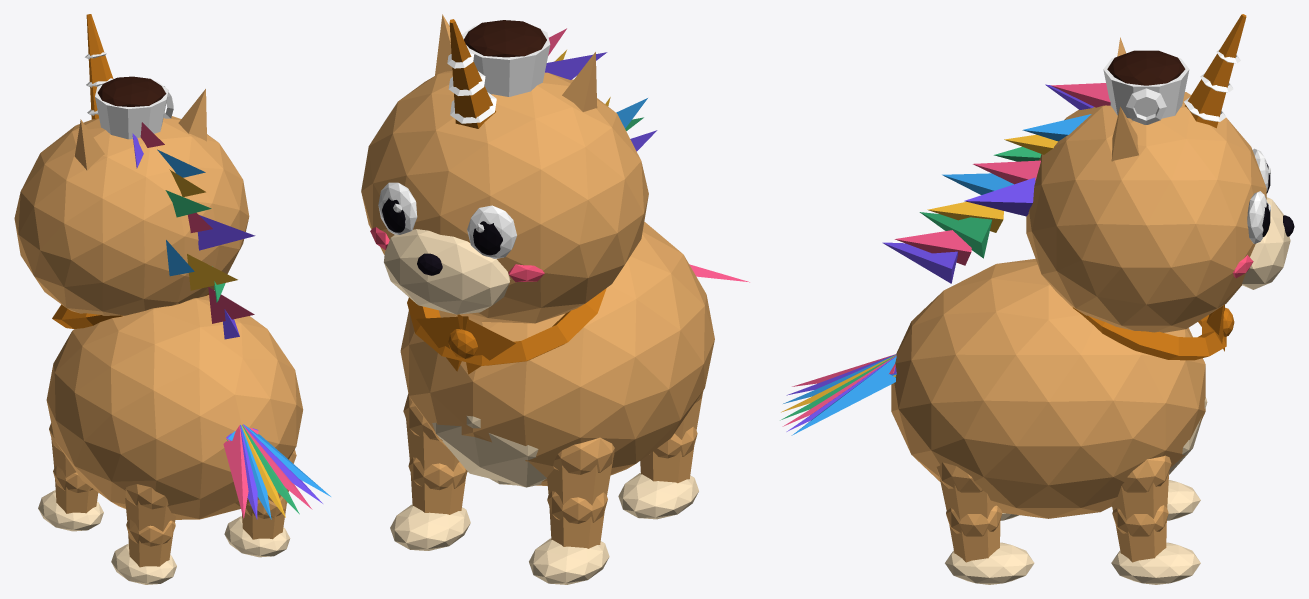
The model's file is toffee_unicorn.obj.
3 views of the same model, side by side, from view 1: azimuth 30°, elevation 25°; view 2: azimuth 150°, elevation 25°; view 3: azimuth 270°, elevation 25° (orthographic). The views are drawn at different scales.
Visible parts, largest first — view 1: Body_1_m1, Head_2_m3, Head_2_m6, Leg3Lo_8_m17, Body_1_m28, Leg3Up_7_m16, Head_2_m33, Head_2_m24, Head_2_m23, Leg1Lo_4_m11, Leg4Lo_10_m21, Leg1Lo_4_m12 (+12 smaller); view 2: Head_2_m3, Body_1_m1, Head_2_m4, Head_2_m6, Body_1_m34, Body_1_m2, Leg1Up_3_m10, Leg1Lo_4_m12, Leg3Lo_8_m18, Leg2Lo_6_m15, Leg1Lo_4_m11, Leg2Lo_6_m14 (+8 smaller); view 3: Body_1_m1, Head_2_m3, Head_2_m6, Body_1_m34, Head_2_m23, Head_2_m24, Leg2Up_5_m13, Leg2Lo_6_m15, Leg4Lo_10_m21, Leg2Lo_6_m14, Leg4Lo_10_m20, Head_2_m22 (+10 smaller).
Boxes of the visible parts, x1,y1,x2,y2 form: Body_1_m1: (46,295,303,519); Head_2_m3: (14,89,249,315); Head_2_m6: (85,52,173,139); Leg3Lo_8_m17: (126,519,175,567); Body_1_m28: (223,424,312,518); Leg3Up_7_m16: (125,484,175,531); Head_2_m33: (97,76,166,106); Head_2_m24: (132,133,255,339); Head_2_m23: (140,122,254,323); Leg1Lo_4_m11: (53,465,98,513); Leg4Lo_10_m21: (224,516,290,557); Leg1Lo_4_m12: (38,490,103,531); Head_2_m3: (361,14,648,323); Body_1_m1: (400,221,714,485); Head_2_m4: (384,229,510,314); Head_2_m6: (378,25,550,258); Body_1_m34: (407,288,606,374); Body_1_m2: (432,416,546,487); Leg1Up_3_m10: (547,437,614,505); Leg1Lo_4_m12: (529,538,609,584); Leg3Lo_8_m18: (618,472,698,519); Leg2Lo_6_m15: (390,504,470,550); Leg1Lo_4_m11: (547,491,607,548); Leg2Lo_6_m14: (408,457,467,514); Body_1_m1: (891,259,1205,518); Head_2_m3: (1026,37,1266,332); Head_2_m6: (1103,49,1268,243); Body_1_m34: (1072,304,1226,360); Head_2_m23: (894,83,1110,265); Head_2_m24: (882,84,1093,283); Leg2Up_5_m13: (1111,455,1171,519); Leg2Lo_6_m15: (1111,542,1200,584); Leg4Lo_10_m21: (945,542,1034,584); Leg2Lo_6_m14: (1112,505,1168,562); Leg4Lo_10_m20: (946,505,1002,562); Head_2_m22: (1185,14,1246,128).
Size of the model in its own units: 1.41 by 3.01 by 2.63.
